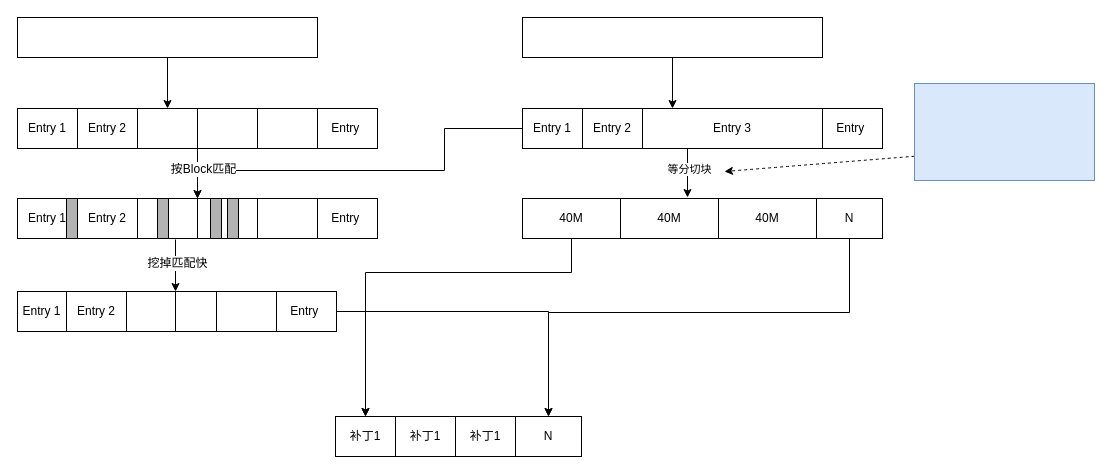
Image size: 1112x474. Some labels were removed from this diagram. The centre of each missing label's shape, as x and y in pixels:
New APK: the point at 672,37
Old APK: the point at 167,37
分块信息 头部记录分块中的Entry 信息: 开始Entry序号, 结束Entry 序号: the point at 1004,131
